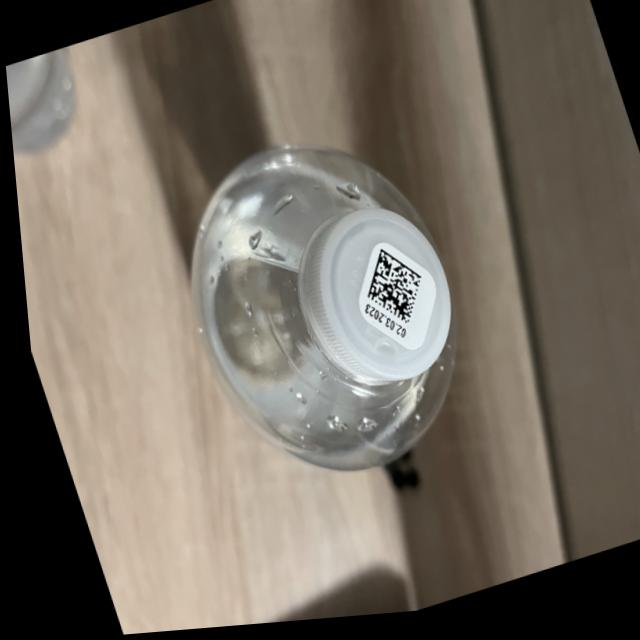datamatrix: (348, 246, 428, 340)
